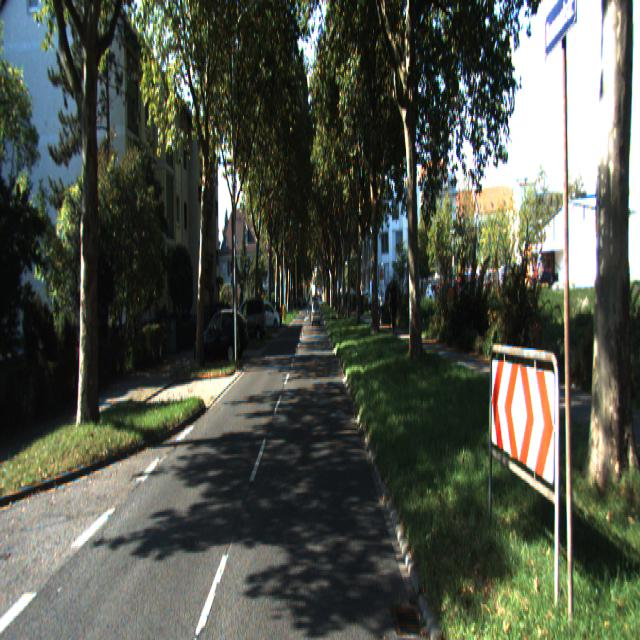Car: (196, 303, 243, 363)
